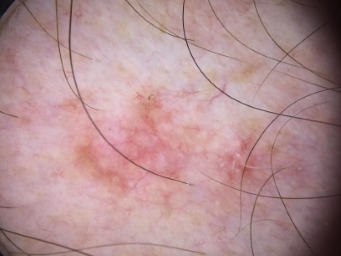nevus: (80, 99, 191, 188), (223, 133, 256, 186)
